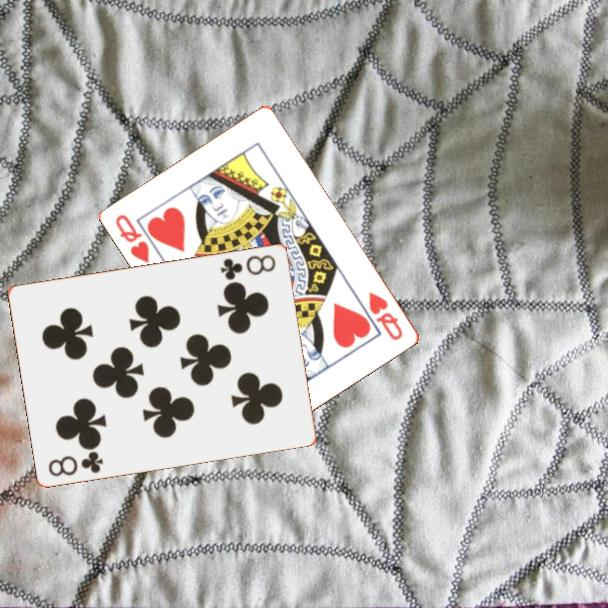c08: (217, 251, 279, 283), (45, 447, 106, 479)
h12: (365, 288, 406, 344), (112, 211, 153, 266)
